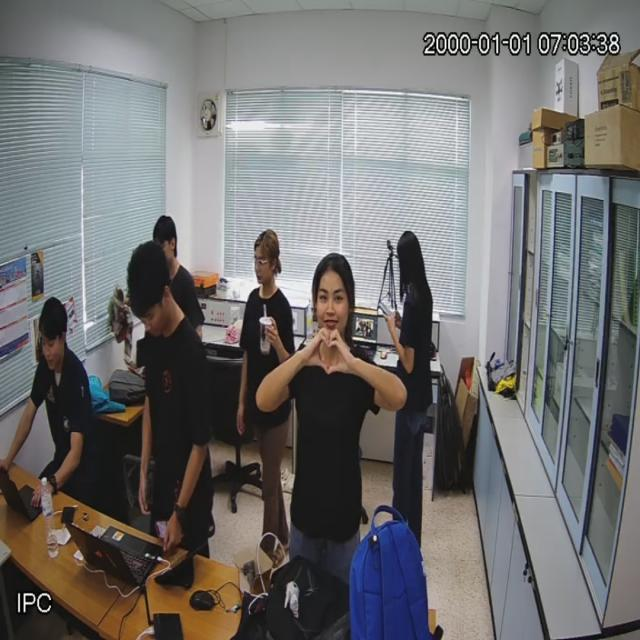normal: (116, 245, 232, 560), (288, 245, 384, 578), (232, 224, 305, 562), (386, 221, 450, 567), (17, 290, 98, 517)
